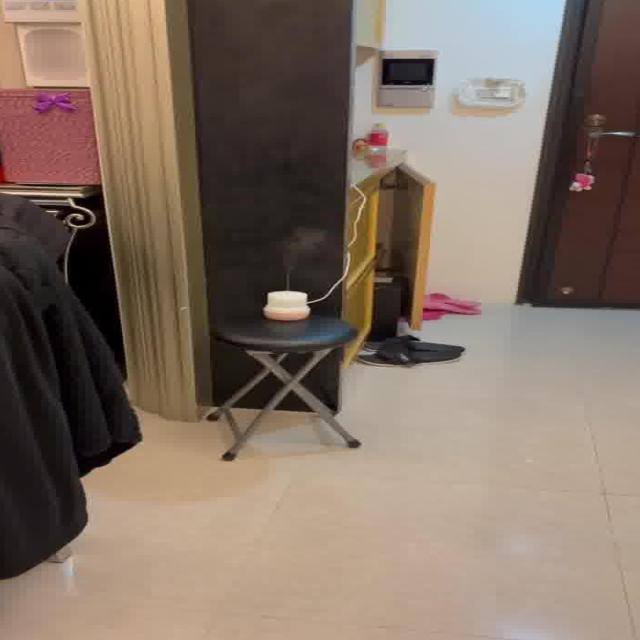fire: (271, 225, 334, 278)
